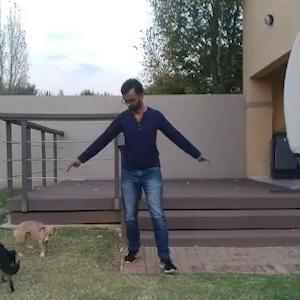land: (83, 74, 253, 280)
